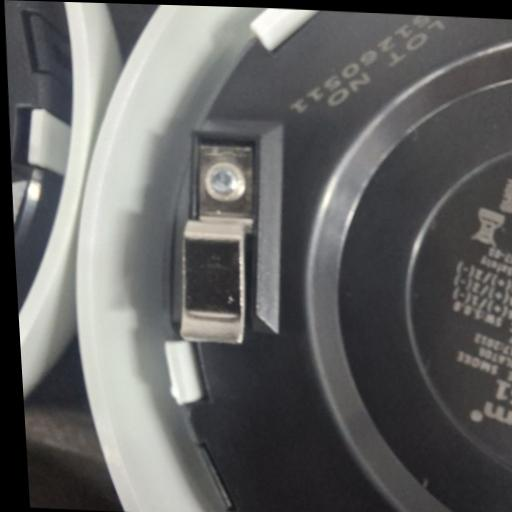yaysiz: (164, 130, 271, 348)
